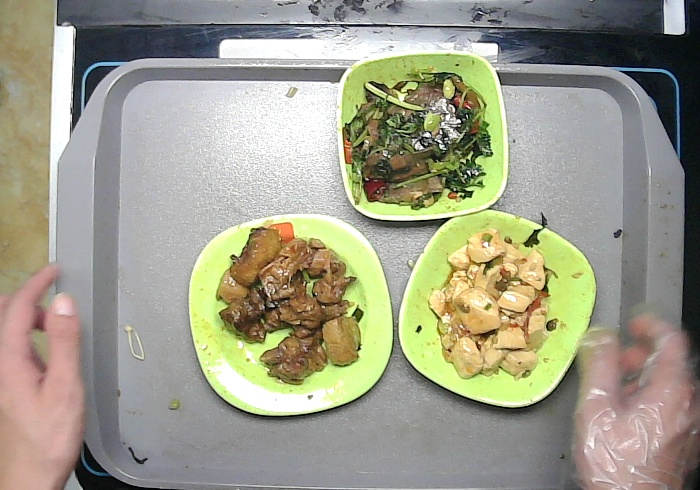SHKJ-Lv_Se_Cai_Die: (396, 203, 599, 412)
SHKJ-Lv_Se_Si_Fang_Cai_Die: (185, 209, 396, 421)
SHKJ-Lv_Se_Xiao_Fang_Die: (331, 47, 512, 224)
